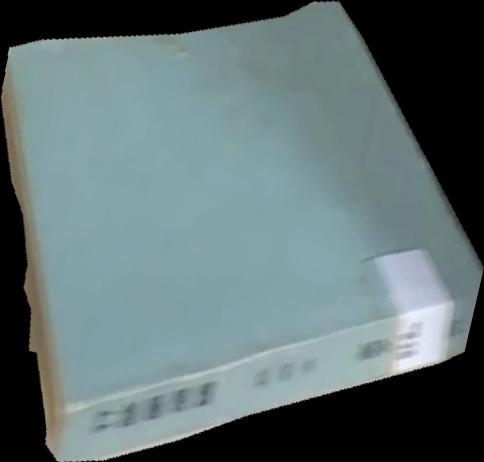flat: (1, 1, 484, 462)
